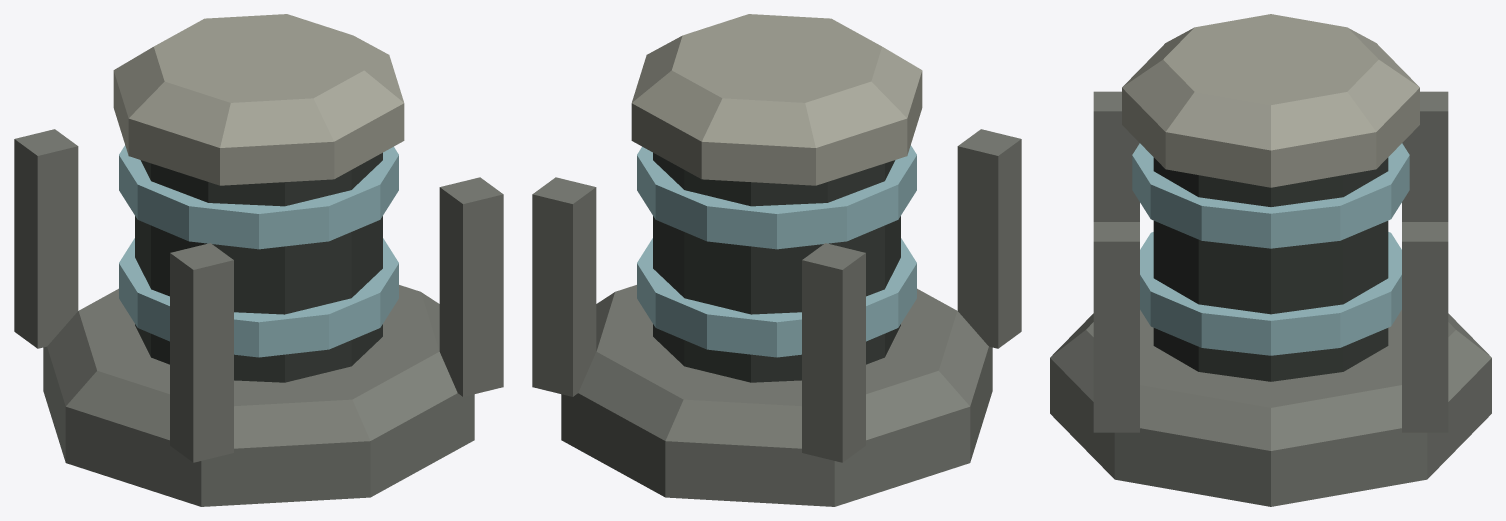
The model's file is grav_extender.obj.
3 renders of one model, left to right at view 1: azimuth 30°, elevation 25°; view 2: azimuth 150°, elevation 25°; view 3: azimuth 270°, elevation 25°, orthographic.
Parts seen in each view (by area): view 1: grav_extender; view 2: grav_extender; view 3: grav_extender.
Boxes of the visible parts, box(x1,y1,x2,y2) form: grav_extender: box(14, 14, 503, 506); grav_extender: box(532, 14, 1021, 506); grav_extender: box(1050, 14, 1491, 506).
Size of the model in its own units: 0.86 by 0.76 by 0.86.
